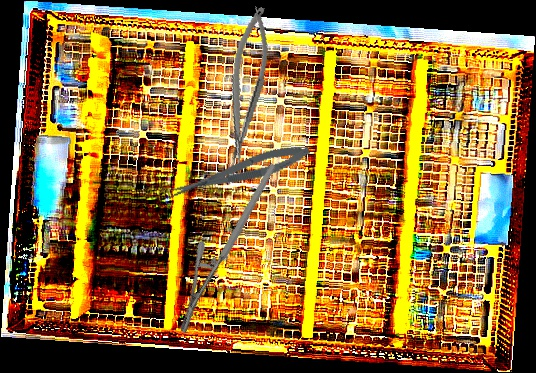Micro Scissor: (163, 139, 313, 204)
Needle Holder: (138, 163, 319, 335), (213, 4, 279, 172)
